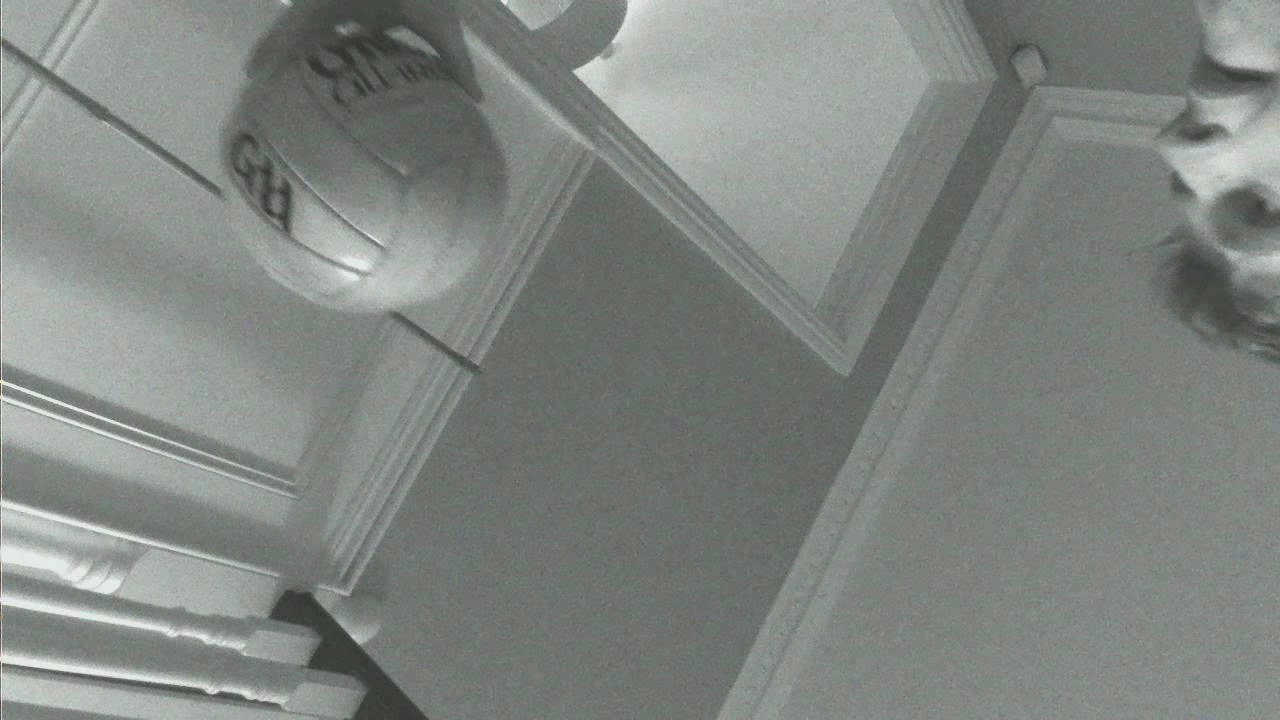Football-Spotter: (222, 21, 505, 311)
